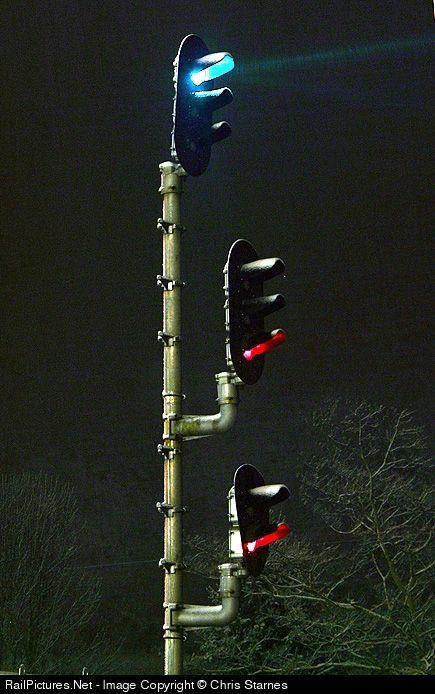Traffic light green: (143, 15, 253, 197)
